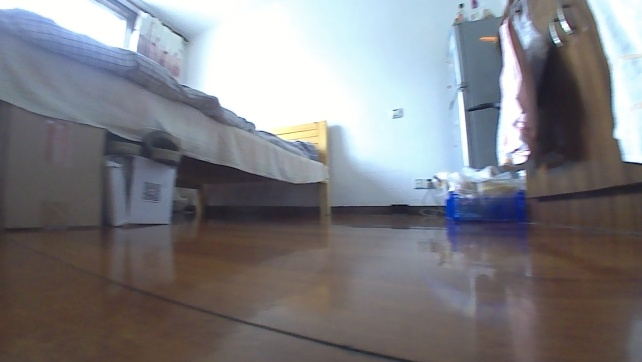bed1: (0, 4, 330, 219)
refrigerator: (439, 15, 529, 174)
